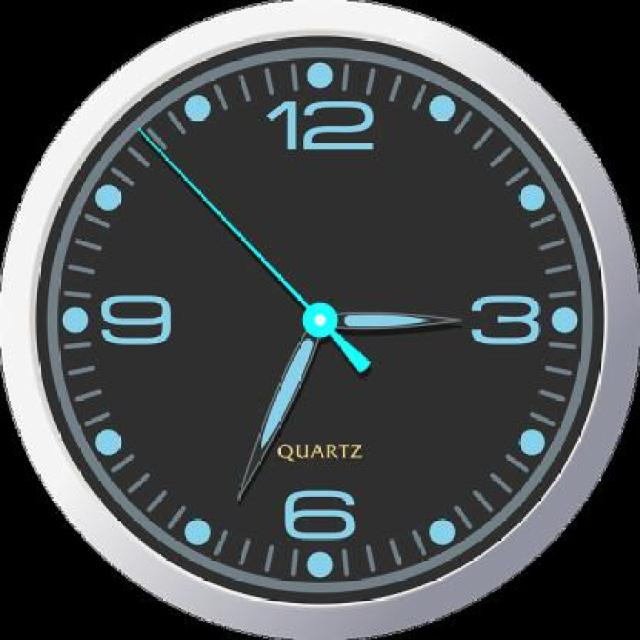clock: (46, 43, 610, 609)
